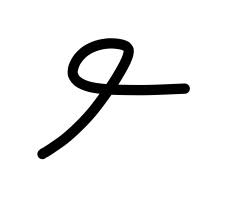t: (24, 29, 142, 169)
